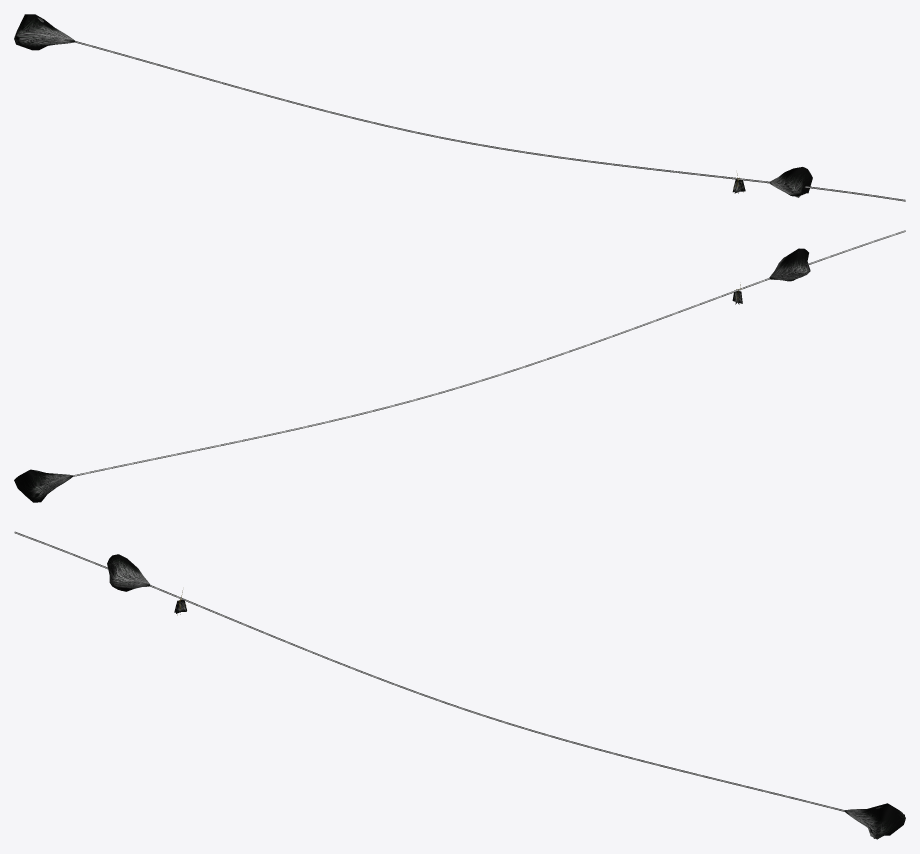
The model's file is INST_MIRK_WEBZIPLINEA.fbx.
The picture shows the model from 3 angles, top to bottom: view 1: azimuth 90°, elevation 25°; view 2: azimuth 150°, elevation 25°; view 3: azimuth 270°, elevation 25°; orthographic projection. The views are drawn at different scales.
Parts seen in each view (by area): view 1: INST_MIRK_WEBZIPLINEA; view 2: INST_MIRK_WEBZIPLINEA; view 3: INST_MIRK_WEBZIPLINEA.
Boxes of the visible parts, bbox=[...] form: INST_MIRK_WEBZIPLINEA: bbox=[14, 14, 905, 201]; INST_MIRK_WEBZIPLINEA: bbox=[14, 230, 905, 502]; INST_MIRK_WEBZIPLINEA: bbox=[14, 531, 905, 839].
Size of the model in its own units: 306122 by 48224 by 482617.
4 materials, 4 textured.
